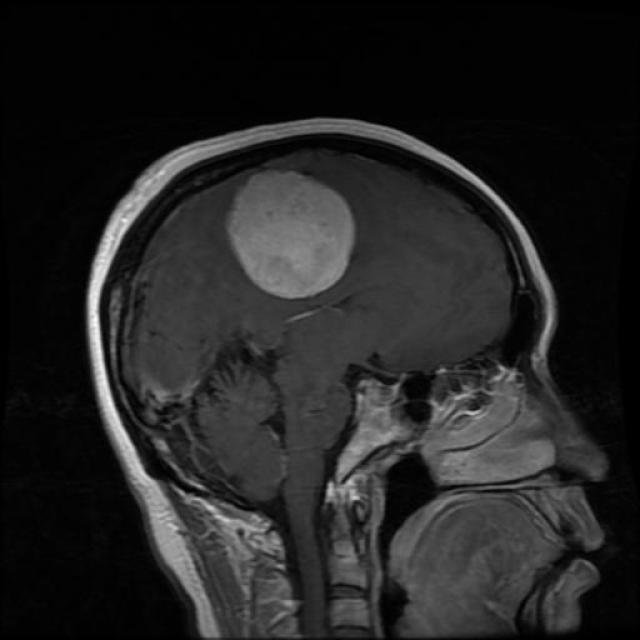meningioma: (226, 171, 354, 300)
